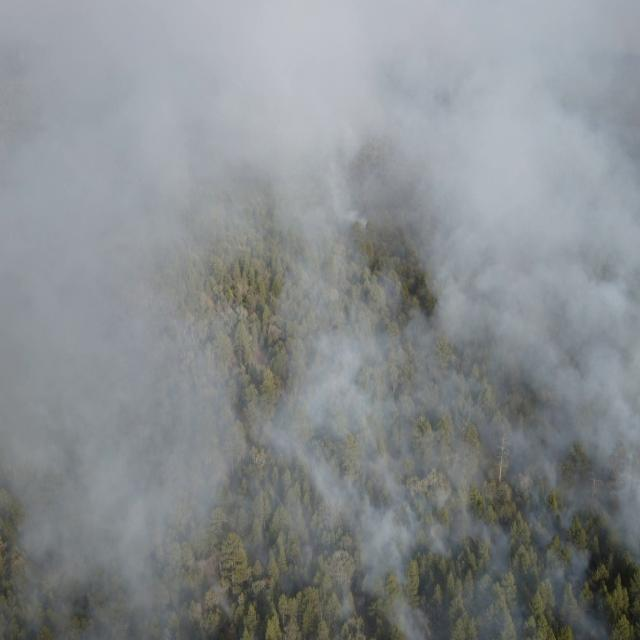fire: (264, 578, 274, 588)
smoke: (0, 0, 640, 640)
